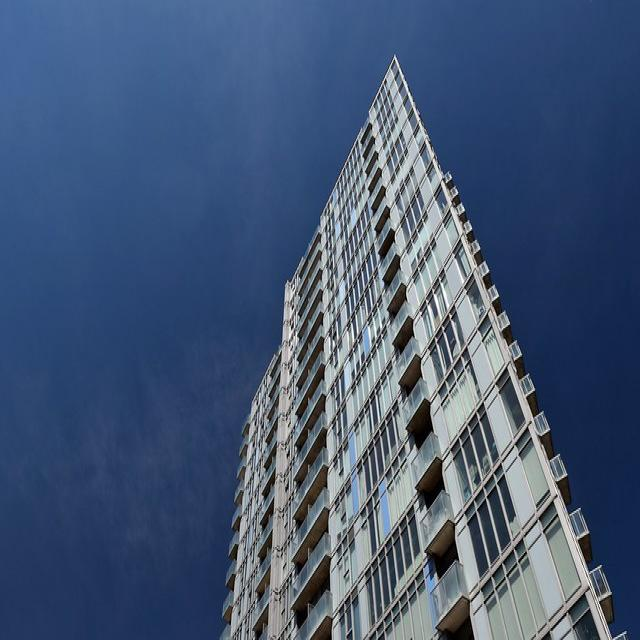Normal_building: (217, 43, 636, 640)
